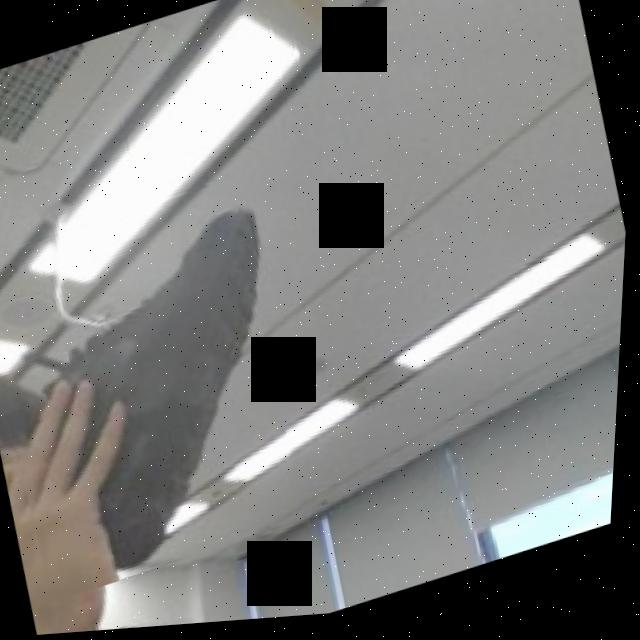shoe: (0, 205, 323, 611)
